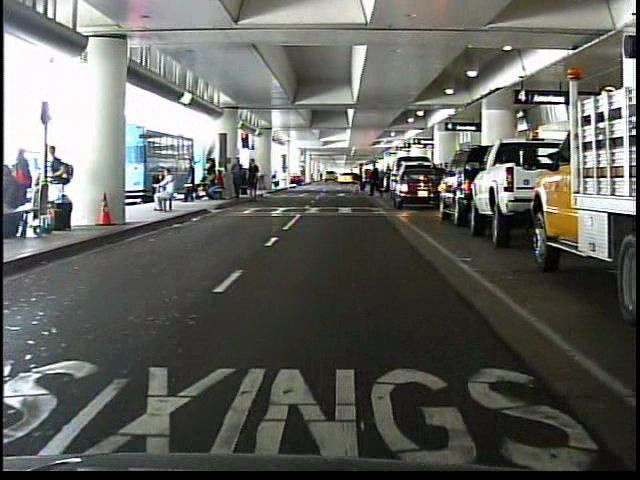person: (148, 168, 179, 215), (367, 158, 386, 202), (183, 155, 199, 206), (349, 160, 369, 197)
